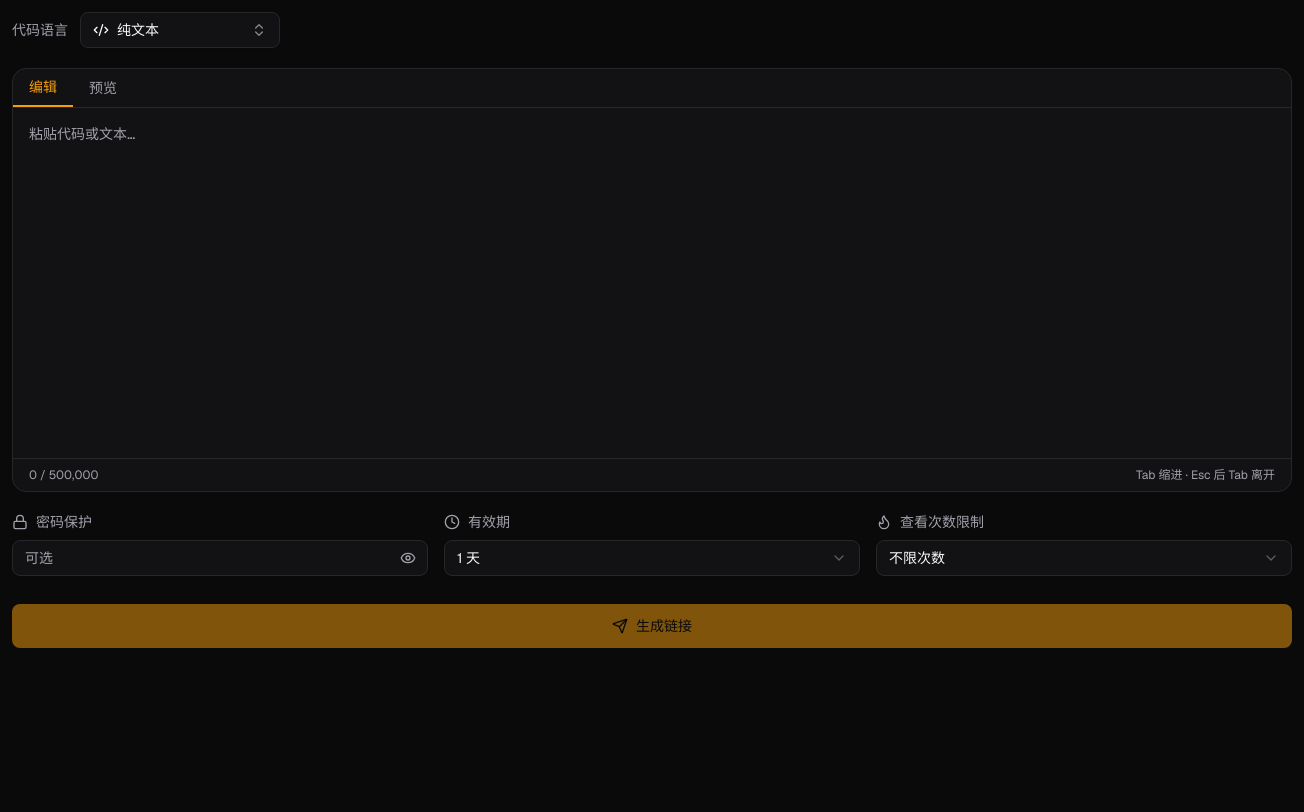
Test case: 创建内容 › 提交期间冻结所有输入，error 后恢复编辑或显示成功结果
Type "本次提交的内容" into the text box named "代码或文本内容" at (652, 283), box [13, 108, 1291, 458]
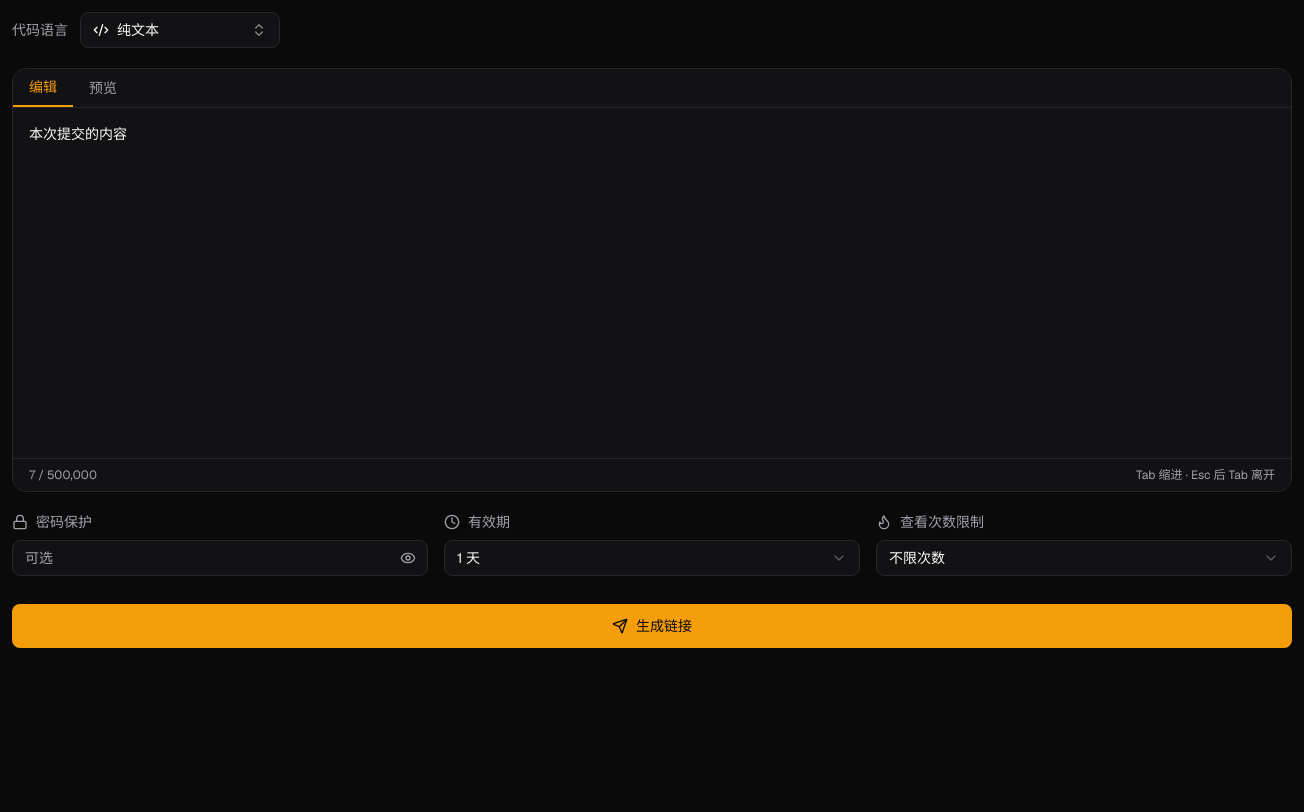
Type "original-password" into the password field labelled "密码保护" at (220, 558), box [12, 540, 428, 576]
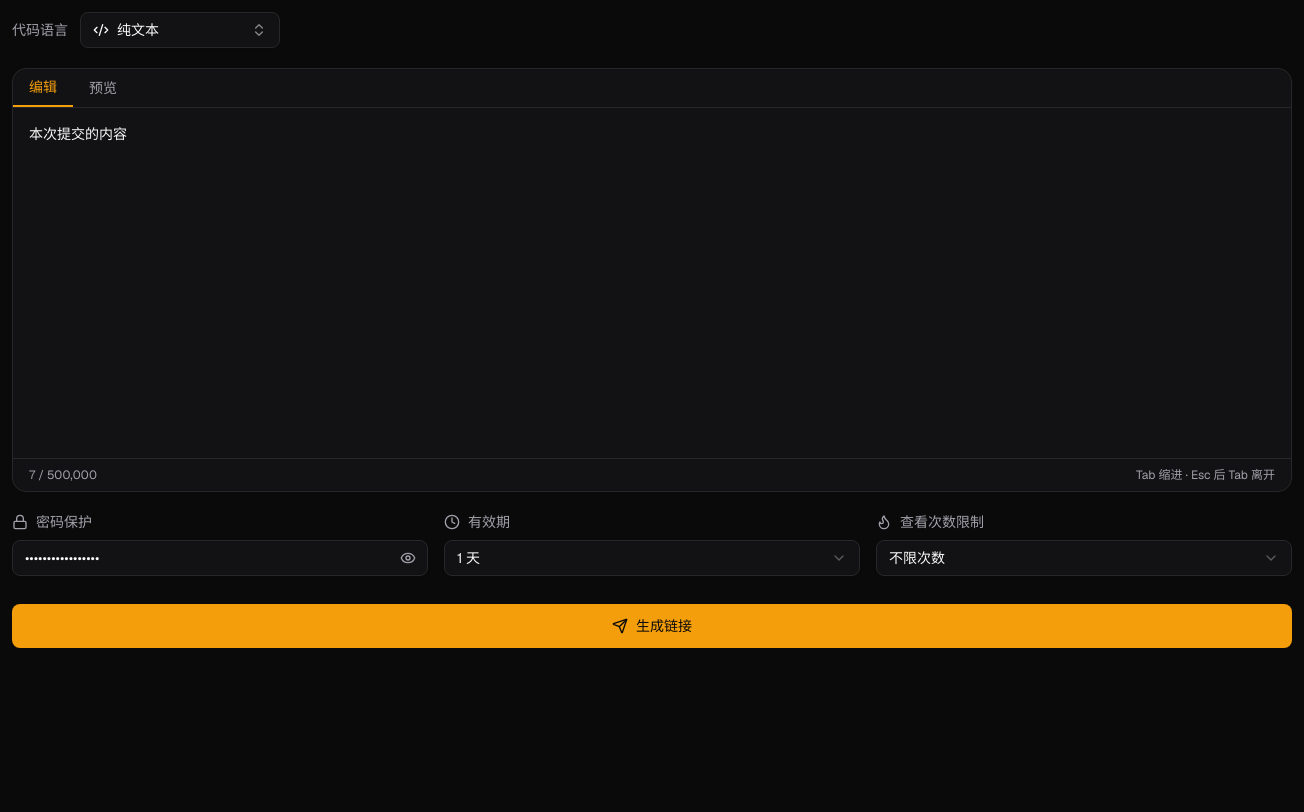
Click the button "生成链接" at (652, 626), box [12, 604, 1292, 648]
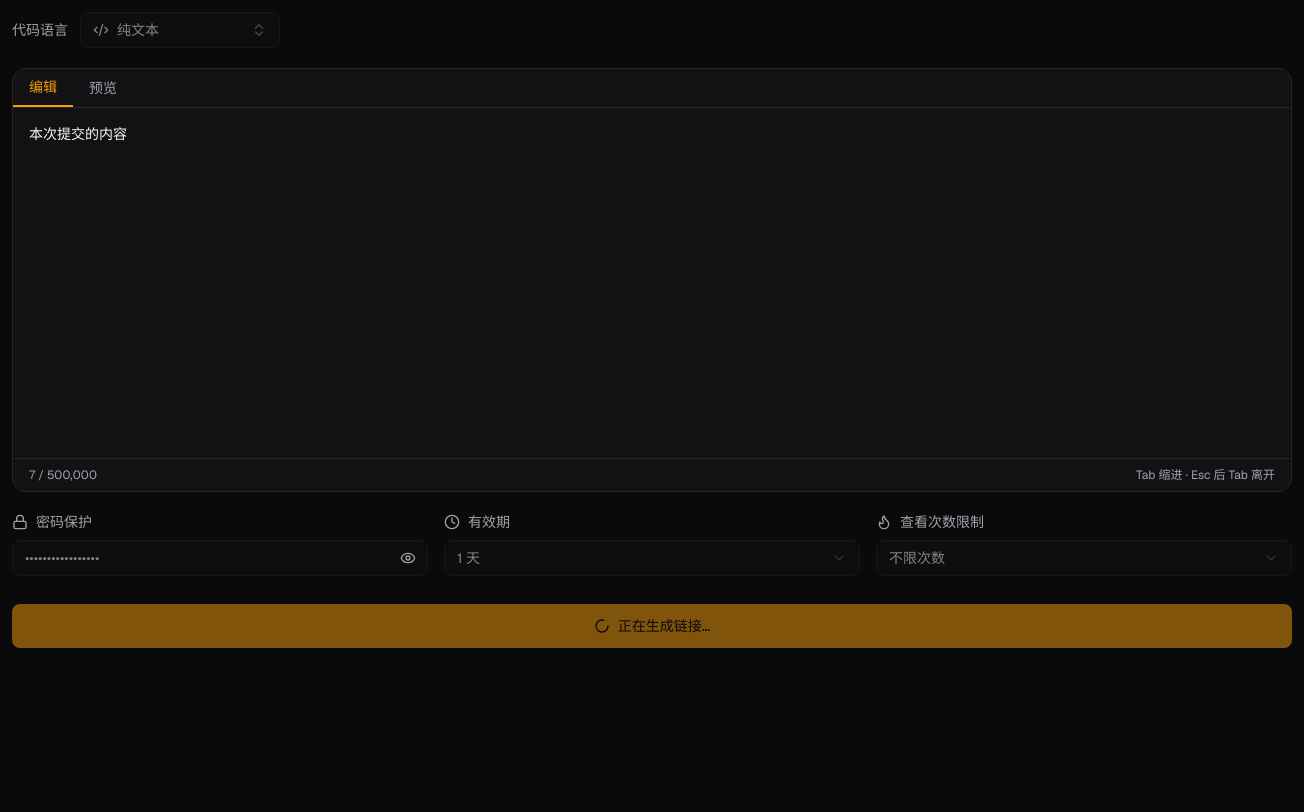
Expected: the text box named "代码或文本内容" is disabled, [13, 108, 1291, 458]
Expected: the dropdown named "有效期" is disabled
Expected: the dropdown named "查看次数限制" is disabled, [876, 540, 1292, 576]
Press the mouse on the dropdown named "有效期" at (468, 558), box [444, 540, 860, 576]
Press ArrowDown in the dropdown named "有效期", box [444, 540, 860, 576]
Press the mouse on the dropdown named "查看次数限制" at (917, 558), box [876, 540, 1292, 576]
Press ArrowDown in the dropdown named "查看次数限制", box [876, 540, 1292, 576]
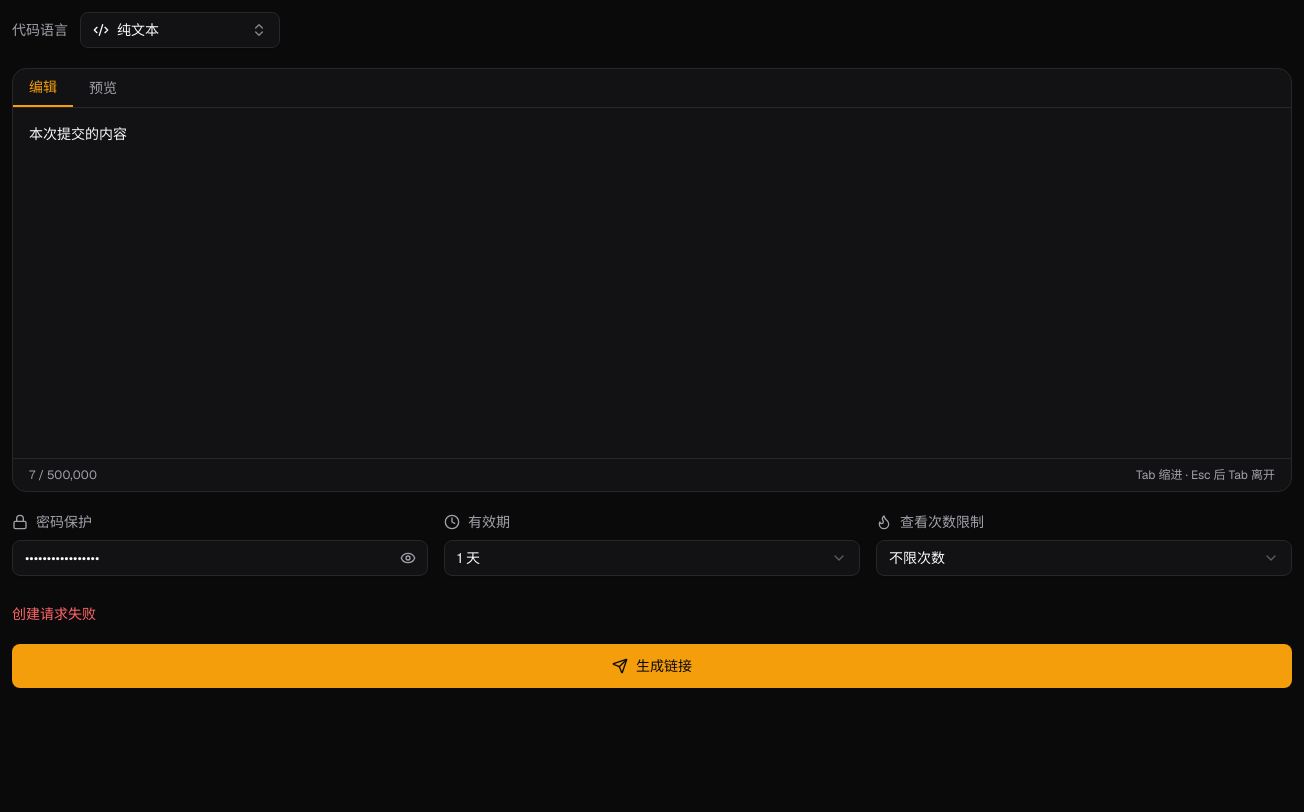
Expected: the text box named "代码或文本内容" is enabled, [13, 108, 1291, 458]
Expected: the dropdown named "有效期" is enabled
Expected: the dropdown named "查看次数限制" is enabled, [876, 540, 1292, 576]
Press ArrowDown in the dropdown named "有效期", box [444, 540, 860, 576]
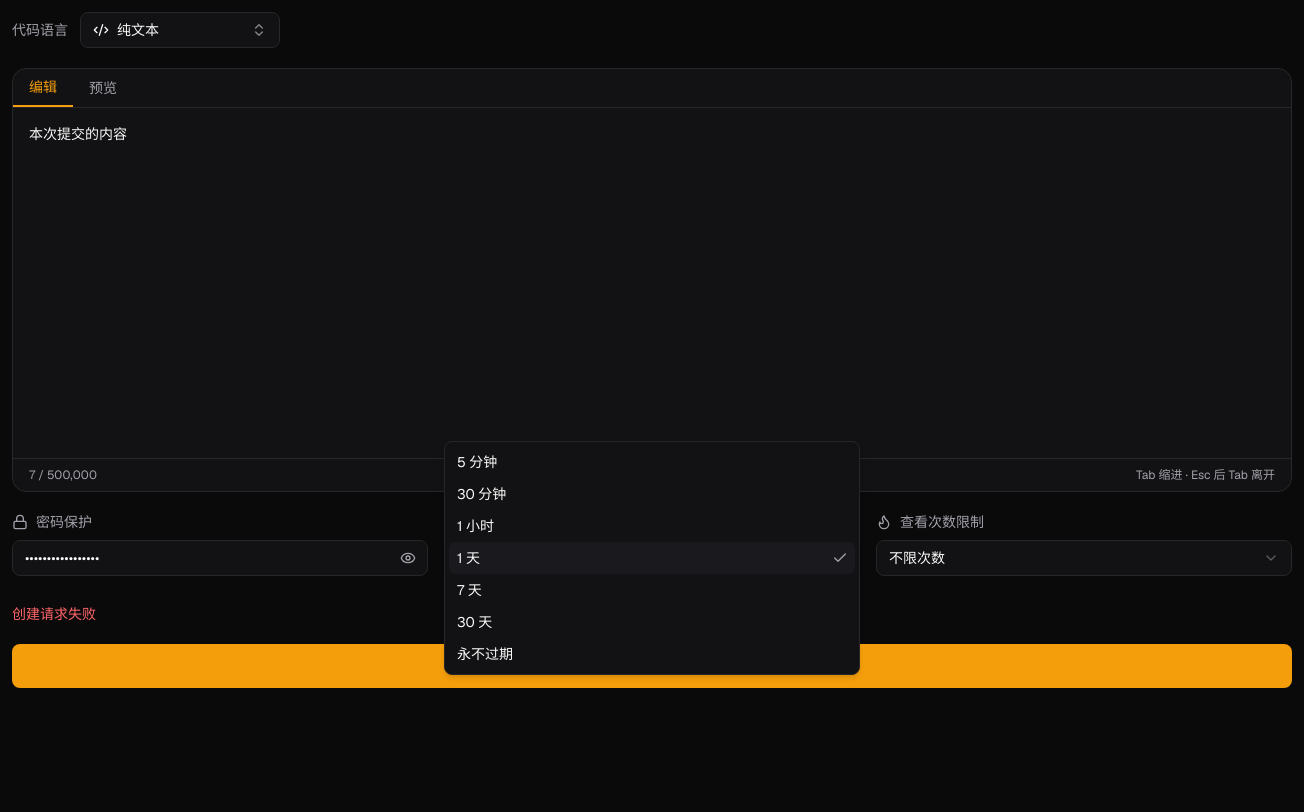
Expected: the list is shown, [444, 441, 860, 675]
